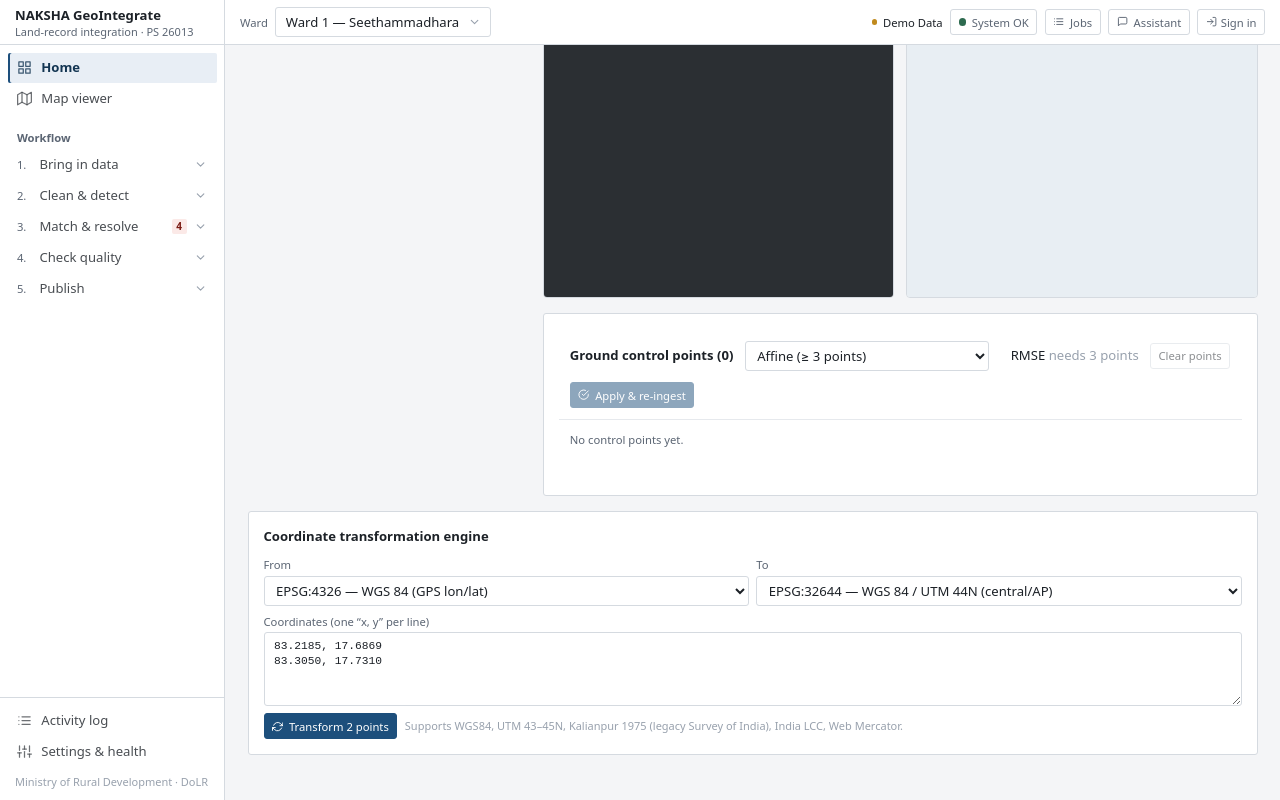
Test: GeorefPage › lists the scan awaiting control points and converts coordinates
(page scrolled)
What coordinates should you click on to do the following:
click the button "Transform 2 points"
I would click on:
 (330, 726)
Its box is [264,713,397,739].
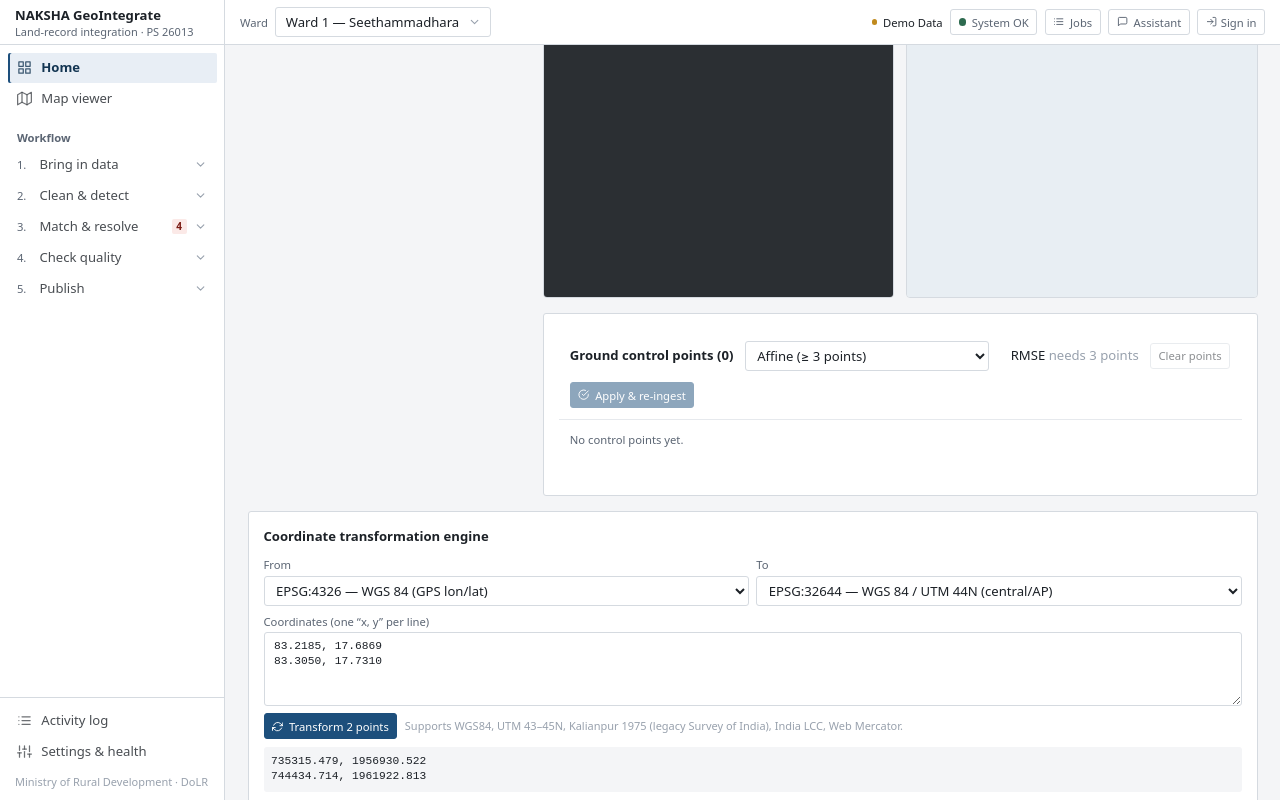
Expected: the text named "Transformed coordinates" reads "735315.479, 1956930.522 744434.714, 1961922.813", [271,755,426,782]
